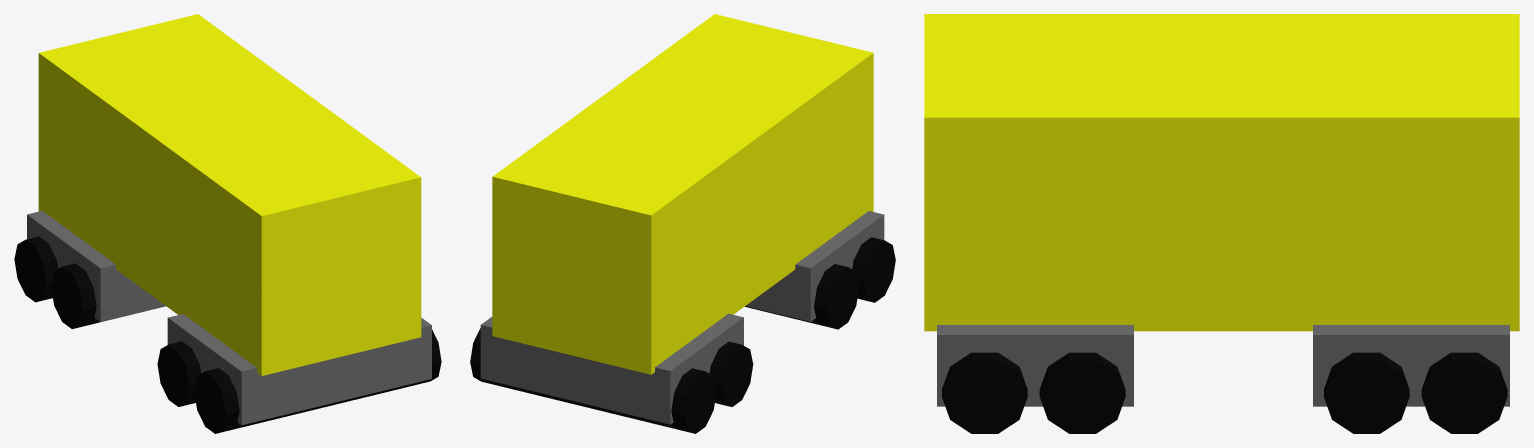
Rendered from Boxcar.glb.
3 renders of one model, left to right at view 1: azimuth 30°, elevation 25°; view 2: azimuth 150°, elevation 25°; view 3: azimuth 270°, elevation 25°, orthographic. The views are drawn at different scales.
Parts seen in each view (by area): view 1: Cube.007; view 2: Cube.007; view 3: Cube.007.
Part boxes in pixels (bbox=[...]): Cube.007: bbox=[14, 14, 441, 433]; Cube.007: bbox=[470, 14, 895, 433]; Cube.007: bbox=[924, 14, 1519, 433].
Size of the model in its own units: 2.26 by 2.25 by 4.06.
